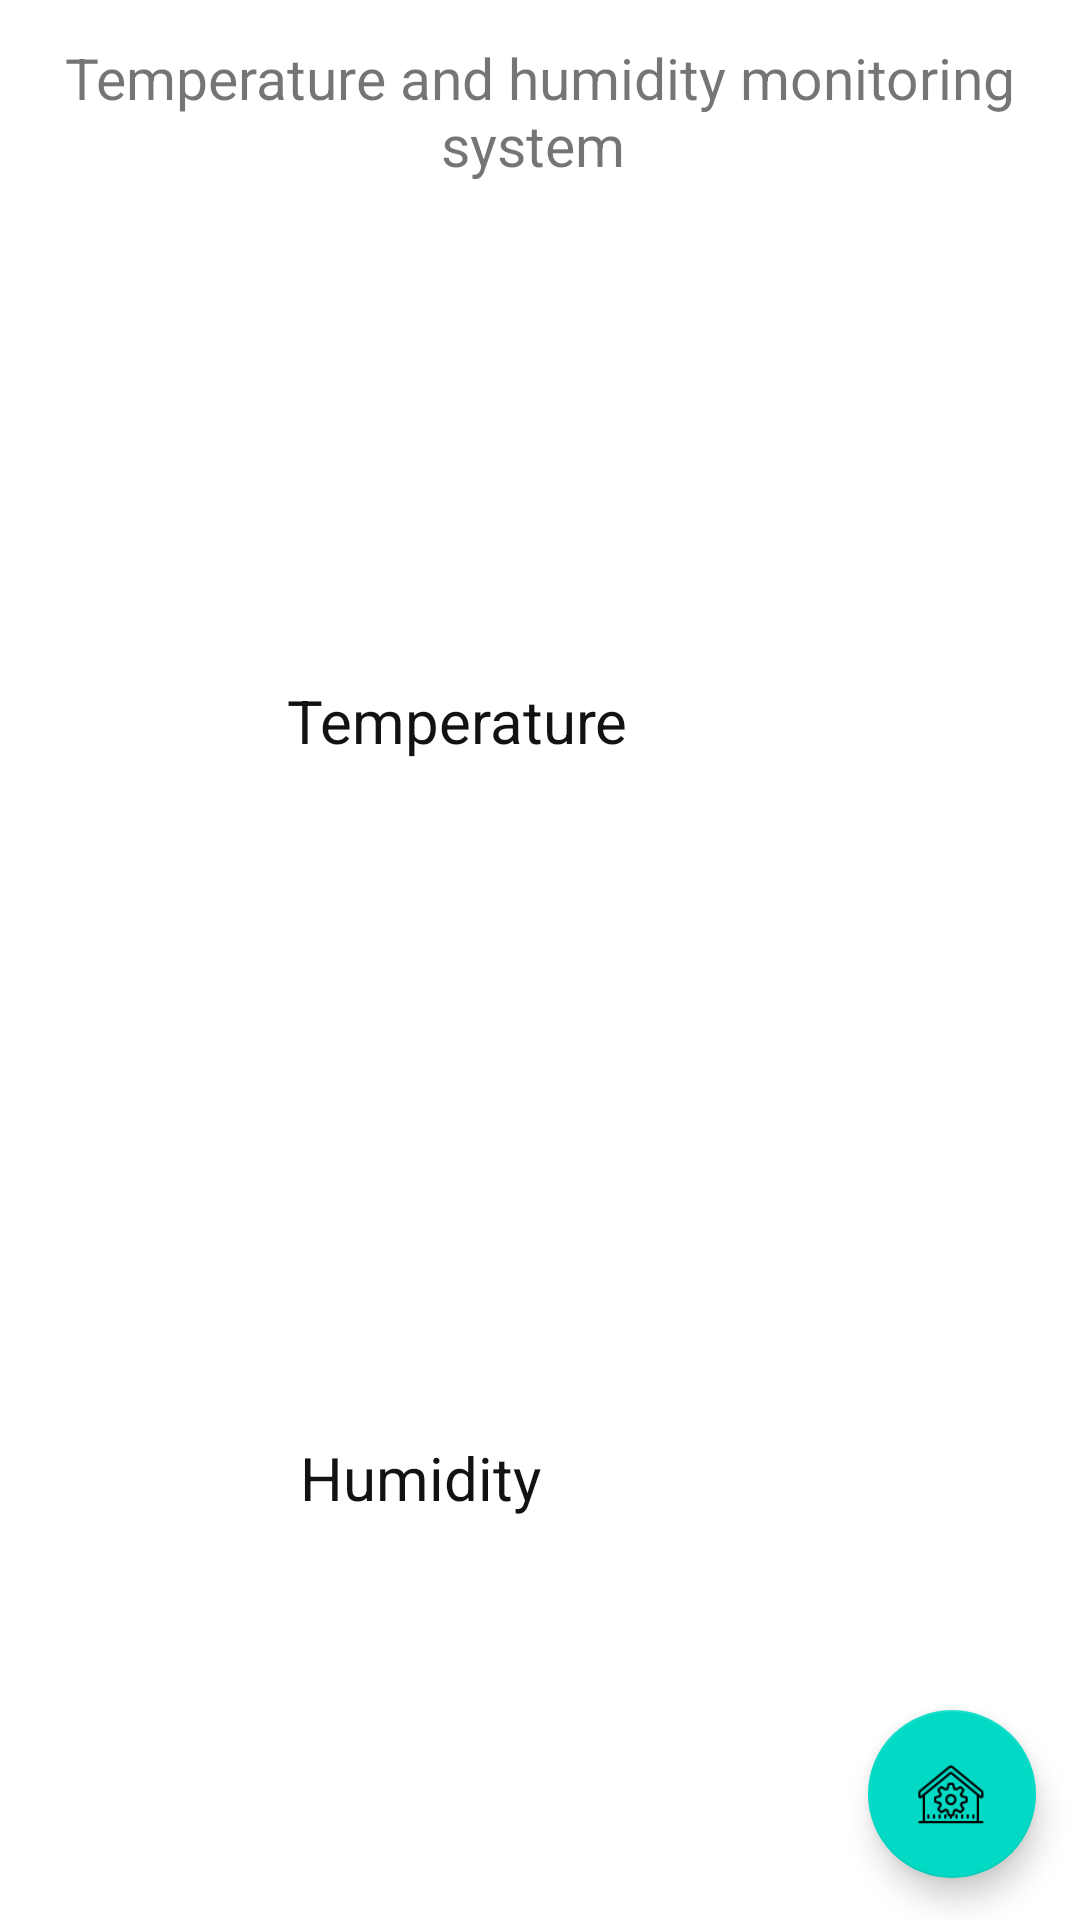

Screen size 1080px×1920px. Icon name, then its center in pixels as [x,y]:
gear: [952,1794]
